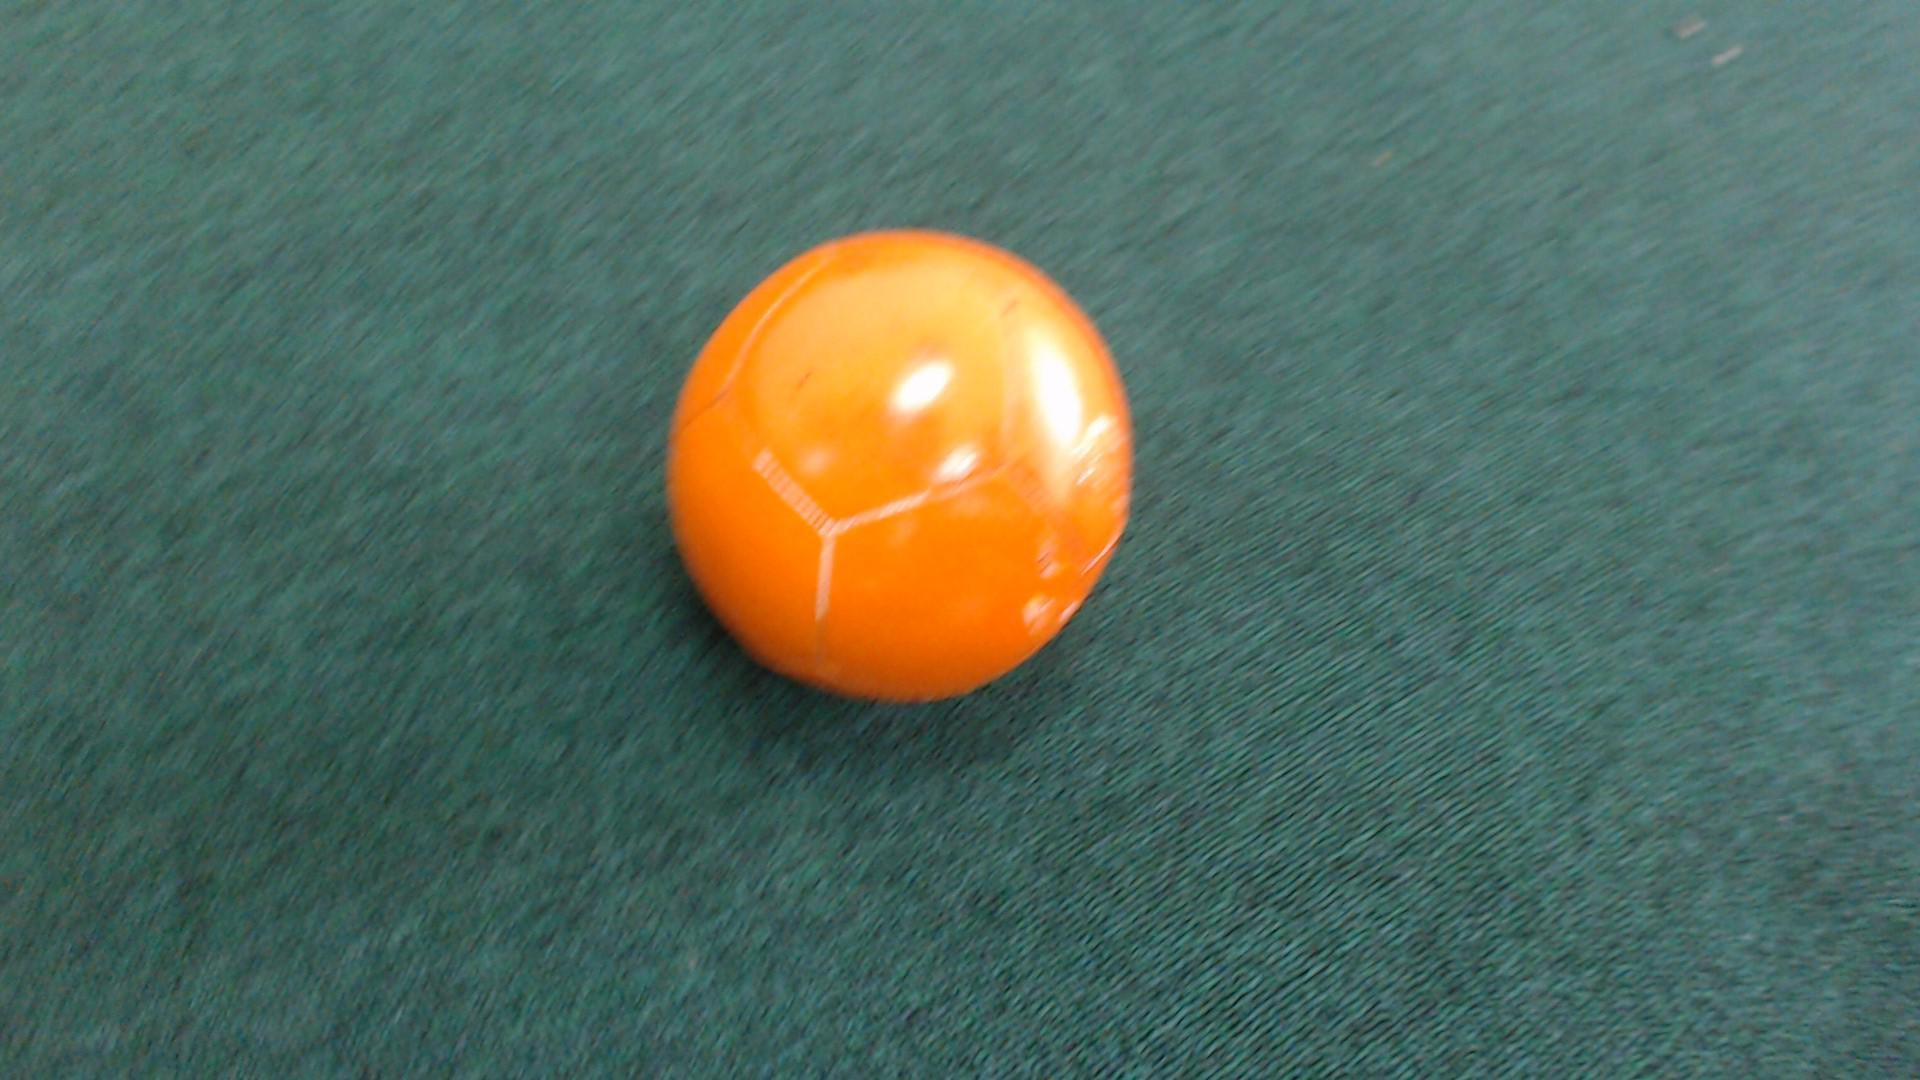bola: (615, 182, 1221, 748)
